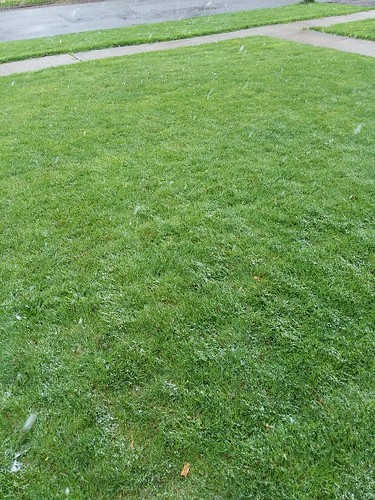grass: (1, 42, 375, 500)
